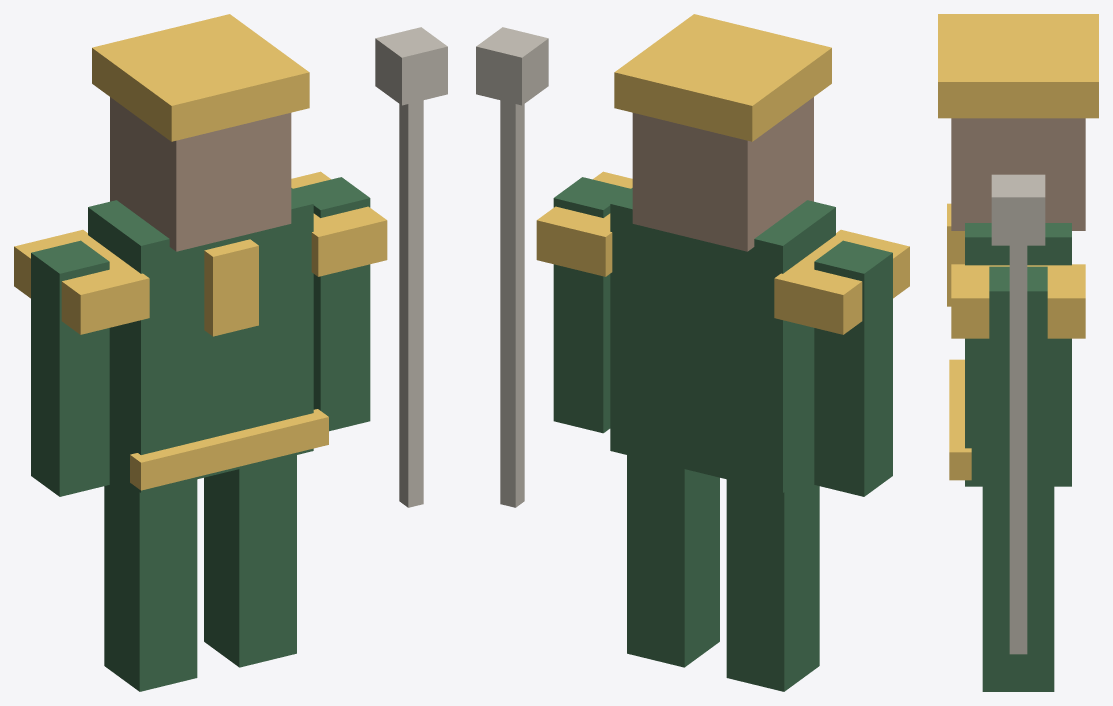
The model's file is 17_auren_mossguard_custodian_of.glb.
3 views of the same model, side by side, from view 1: azimuth 30°, elevation 25°; view 2: azimuth 150°, elevation 25°; view 3: azimuth 270°, elevation 25° (orthographic).
Parts seen in each view (by area): view 1: Auren Mossguard, Custodian of; view 2: Auren Mossguard, Custodian of; view 3: Auren Mossguard, Custodian of.
Boxes of the visible parts, x1,y1,x2,y2 form: Auren Mossguard, Custodian of: (14,14,447,691); Auren Mossguard, Custodian of: (476,14,909,691); Auren Mossguard, Custodian of: (938,14,1098,691).
Size of the model in its own units: 1.09 by 1.6 by 0.3863.
